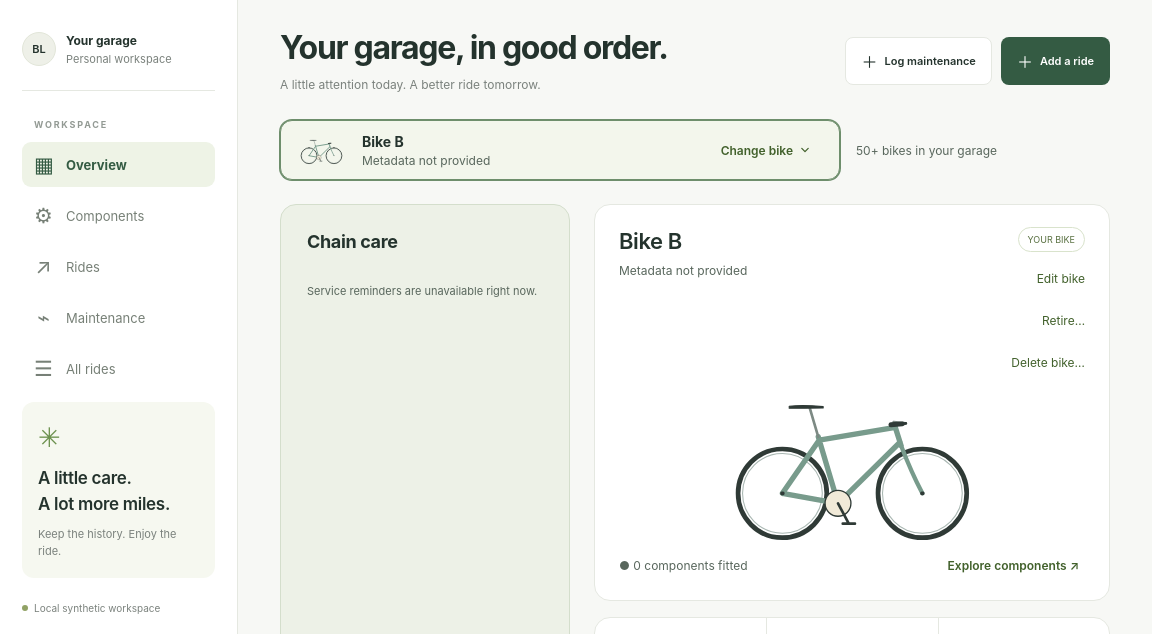
garage › suppliedBikeBeyondFirstPageIsFetchedDirectly
Expected: the heading "Bike B" is shown, x1=619 y1=228 x2=682 y2=254
Expected: the text "50+ bikes in your garage" is shown, x1=856 y1=143 x2=997 y2=158
Click the button "Bike B Metadata not provided Change bike" at (322, 150), box x1=280 y1=120 x2=840 y2=180
(page scrolled)
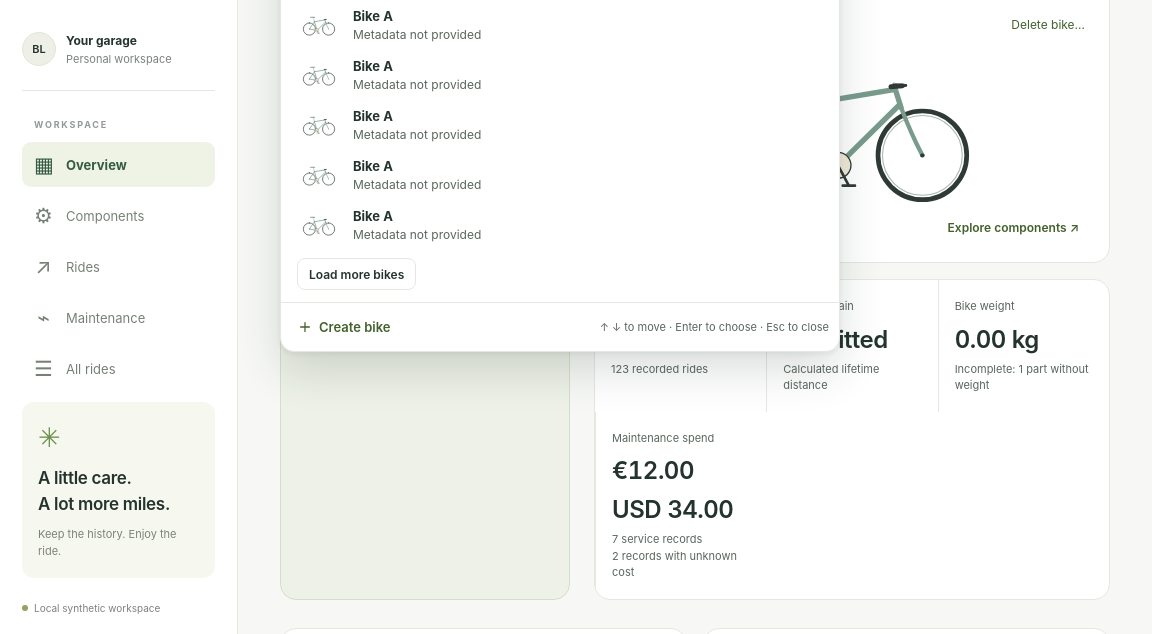
Now the button "Load more bikes" is enabled, box x1=297 y1=258 x2=416 y2=290
